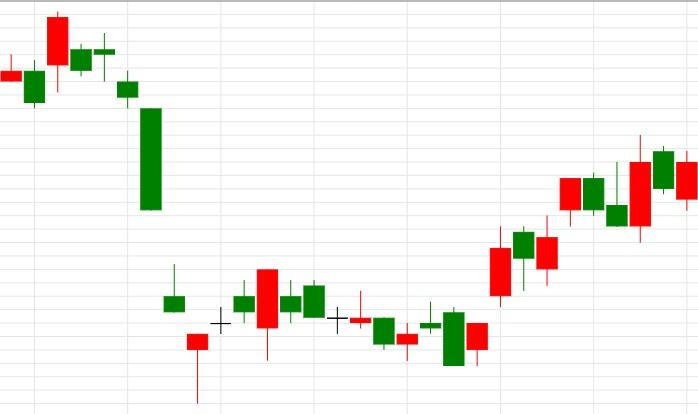hammer_rise: (93, 33, 209, 404)
